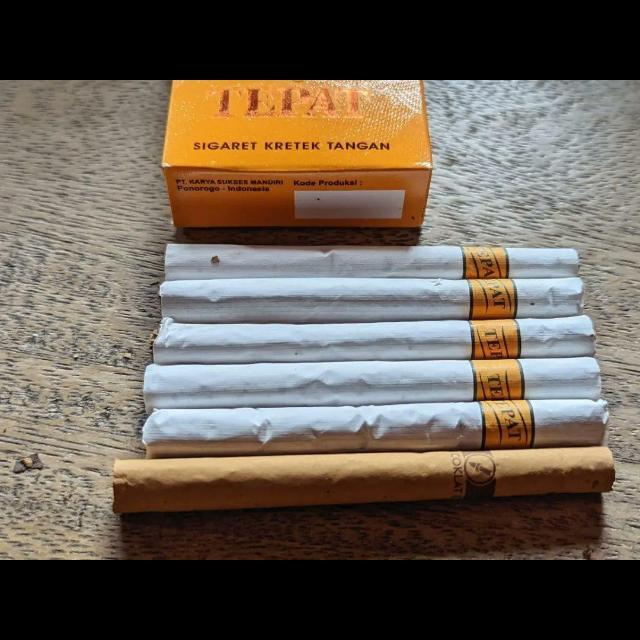rokok: (111, 446, 614, 512), (144, 404, 608, 451), (152, 319, 598, 357), (165, 240, 580, 280), (159, 282, 585, 318), (142, 364, 604, 396)
